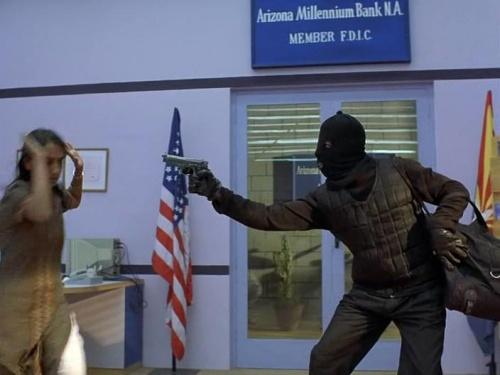Gun: (163, 152, 210, 192)
